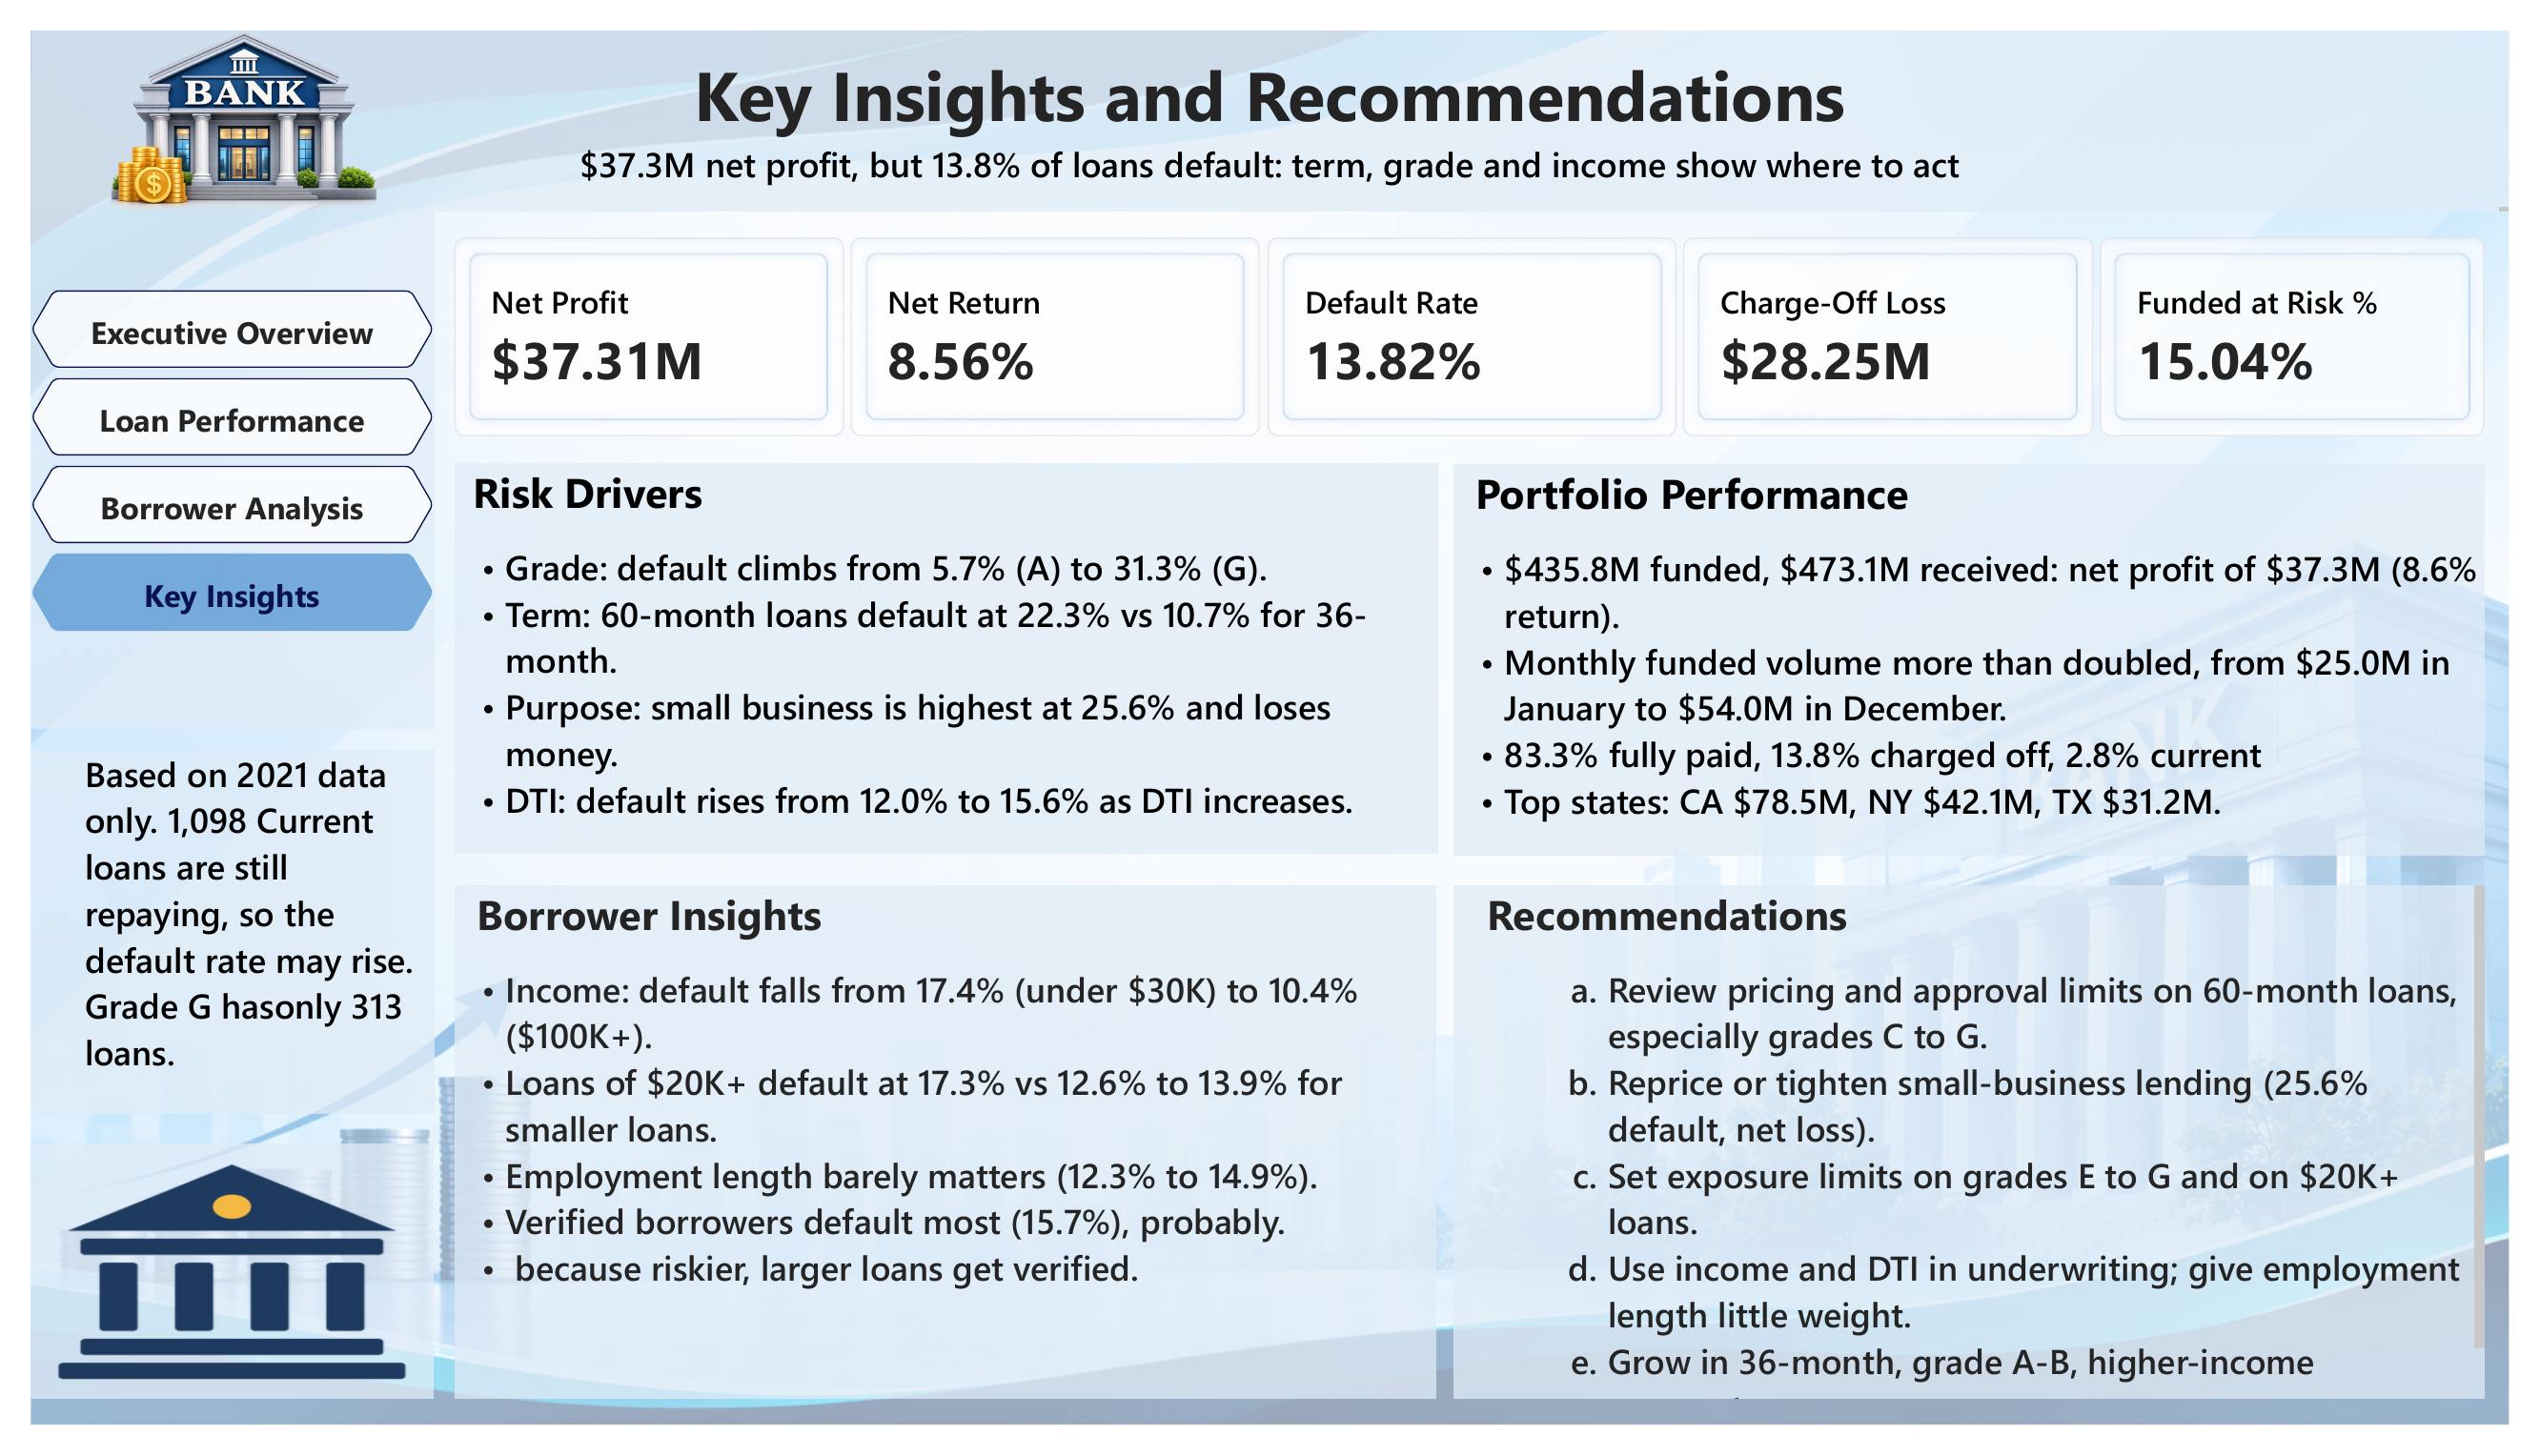

Layout of this report page (visuals, bound fields, positions):
{"tool":"powerbi","page":{"name":"Key Insights","canvas":[1920,1080],"ordinal":3},"visuals":[{"type":"shape","box":[0,0,1920.4,139.5],"z":1000},{"type":"textbox","title":"Key Insights and Recommendations","box":[0,12.2,1920.4,127.3],"z":2000},{"type":"image","box":[26.2,0,277.3,139.5],"z":3000},{"type":"cardVisual","fields":{"Data":["Bank_Loan.Net Profit"]},"box":[327.9,160.5,301.7,153.5],"z":4000},{"type":"cardVisual","fields":{"Data":["Bank_Loan.Net Return"]},"box":[634.9,160.5,317.4,153.5],"z":5000},{"type":"cardVisual","fields":{"Data":["Bank_Loan.Default Rate"]},"box":[957.6,160.5,317.4,153.5],"z":6000},{"type":"cardVisual","fields":{"Data":["Bank_Loan.Charge-Off Loss"]},"box":[1280.2,160.5,317.4,153.5],"z":7000},{"type":"cardVisual","fields":{"Data":["Bank_Loan.Funded at Risk %"]},"box":[1602.9,160.5,298.3,153.5],"z":8000},{"type":"textbox","box":[1101.9,336,799.3,302.6],"z":9000},{"type":"textbox","box":[327.8,335,761.9,302.6],"z":9002},{"type":"textbox","box":[327.7,661.6,761.7,398.6],"z":9003},{"type":"textbox","box":[1101.9,661.6,799.3,398.6],"z":9004},{"type":"shape","box":[0,139.8,313,400.7],"z":9005},{"type":"pageNavigator","box":[0,200.6,312.2,266.9],"z":9006},{"type":"textbox","box":[0,557.2,313,281.7],"z":9007},{"type":"image","box":[0,861.6,312.2,198.8],"z":9008}]}

Visuals, with their boxes in screenshot pixels (x1, y1, x2, y2), scaled from the page's 1920x1080 canvas onto the 2540x1456 screenshot:
shape: 0, 0, 2539, 188
"Key Insights and Recommendations" textbox: 0, 16, 2539, 188
image: 34, 0, 401, 188
cardVisual - Bank_Loan.Net Profit: 434, 216, 833, 423
cardVisual - Bank_Loan.Net Return: 840, 216, 1260, 423
cardVisual - Bank_Loan.Default Rate: 1267, 216, 1687, 423
cardVisual - Bank_Loan.Charge-Off Loss: 1694, 216, 2114, 423
cardVisual - Bank_Loan.Funded at Risk %: 2121, 216, 2515, 423
textbox: 1457, 453, 2515, 861
textbox: 434, 452, 1442, 859
textbox: 434, 892, 1441, 1429
textbox: 1457, 892, 2515, 1429
shape: 0, 189, 414, 729
pageNavigator: 0, 271, 413, 630
textbox: 0, 751, 414, 1131
image: 0, 1162, 413, 1429
